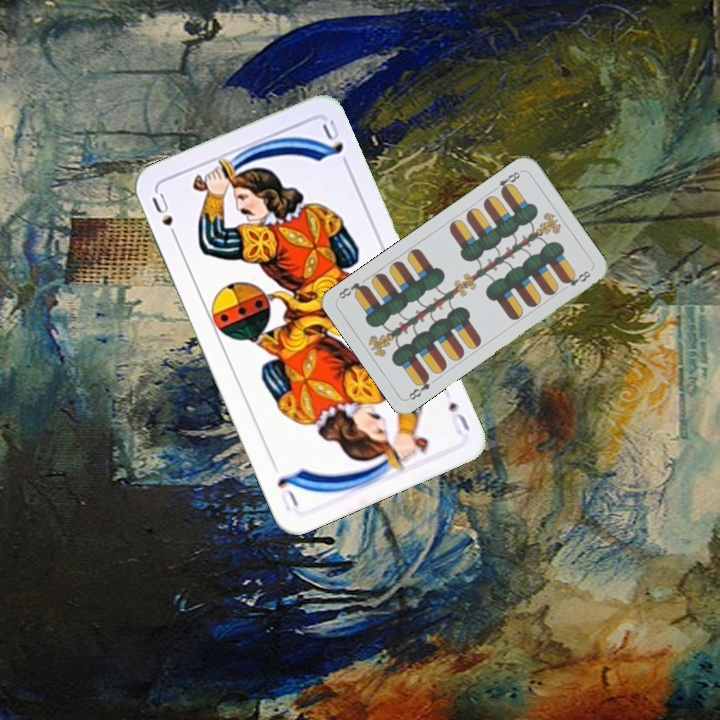E8: (489, 167, 525, 196), (404, 371, 432, 403)
SU: (147, 189, 182, 245), (444, 397, 473, 438)
